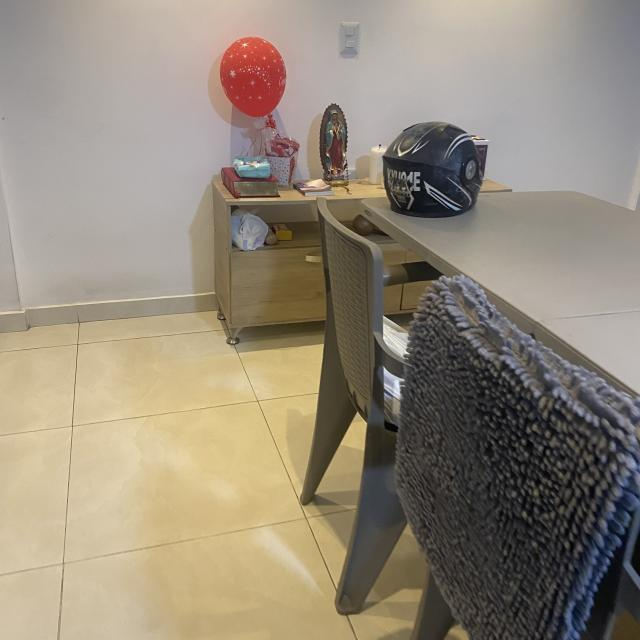obstacle: (296, 188, 526, 625), (188, 153, 512, 326)
